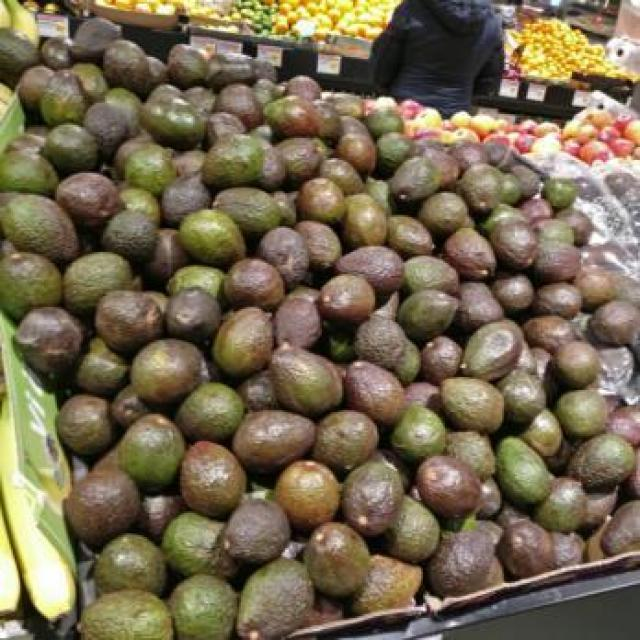Avocado: (239, 557, 316, 638), (0, 193, 81, 261), (67, 471, 144, 541), (272, 344, 344, 416), (164, 513, 245, 575), (425, 532, 497, 600), (132, 340, 208, 404), (200, 134, 288, 188), (72, 594, 178, 638), (125, 414, 184, 491), (232, 410, 316, 464), (309, 526, 375, 594), (171, 576, 243, 638), (96, 533, 170, 593), (19, 309, 87, 373), (348, 460, 403, 539), (276, 460, 340, 526), (2, 252, 64, 320), (184, 443, 244, 513), (223, 499, 293, 558), (98, 289, 168, 346), (348, 359, 410, 423), (438, 377, 506, 434), (498, 436, 552, 506), (214, 309, 273, 373), (181, 208, 249, 263), (57, 394, 119, 454), (417, 458, 481, 515), (460, 320, 526, 375), (320, 410, 380, 470), (68, 250, 132, 305), (142, 94, 206, 148), (180, 383, 242, 438), (567, 438, 635, 488), (116, 136, 176, 191), (502, 524, 562, 576), (444, 228, 499, 282), (215, 187, 283, 229), (0, 151, 59, 199), (103, 210, 157, 262), (224, 260, 284, 306), (261, 226, 305, 286), (399, 293, 456, 339), (342, 248, 404, 290), (524, 239, 583, 283), (320, 274, 379, 318), (89, 103, 133, 160), (107, 40, 153, 94), (46, 129, 101, 173), (39, 74, 87, 124), (500, 371, 546, 423), (298, 177, 348, 223), (493, 217, 537, 269), (265, 98, 325, 135), (557, 393, 609, 435), (394, 155, 442, 199), (600, 502, 638, 557), (215, 84, 263, 126), (462, 164, 502, 214), (390, 213, 436, 253), (526, 314, 576, 346), (165, 44, 205, 84), (338, 136, 376, 176), (497, 276, 537, 311)
